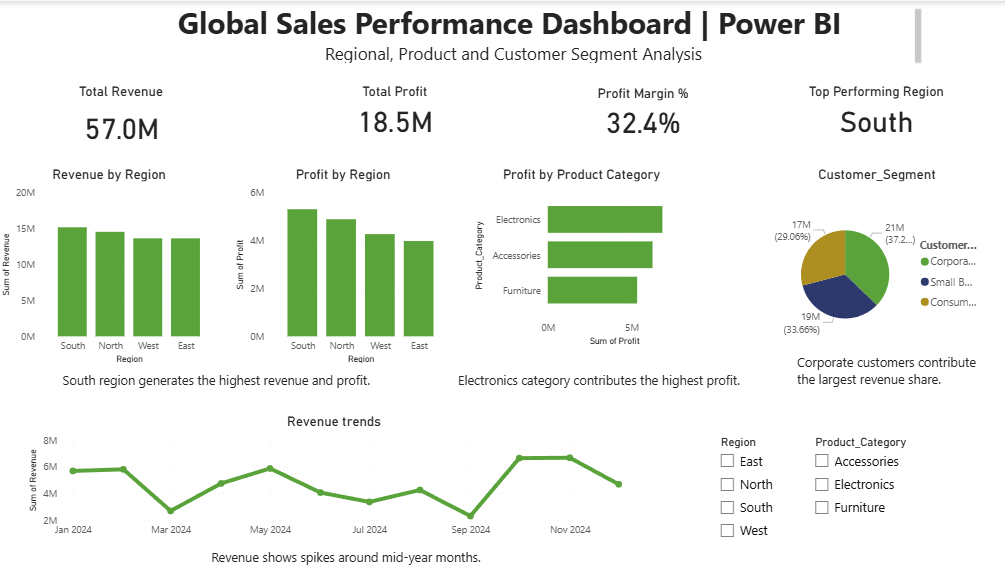

The page's visual inventory and layout, read from the dashboard file:
{"tool":"powerbi","page":{"name":"Page 1","canvas":[1280,720],"ordinal":0},"visuals":[{"type":"card","title":"Total Revenue","fields":{"Values":["Sum(Sheet1.Revenue)"]},"box":[15.1,103.9,279.7,86.9],"z":0},{"type":"clusteredColumnChart","title":"Profit by Region","fields":{"Y":["Sum(Sheet1.Profit)"],"Category":["Sheet1.Region"]},"box":[294.8,207.9,279.7,253.2],"z":1000},{"type":"clusteredColumnChart","title":"Revenue by Region","fields":{"Y":["Sum(Sheet1.Revenue)"],"Category":["Sheet1.Region"]},"box":[0,207.9,279.7,253.2],"z":2000},{"type":"clusteredBarChart","title":" Profit by Product Category","fields":{"Category":["Sheet1.Product_Category"],"Y":["Sum(Sheet1.Profit)"]},"box":[595.3,207.9,279.7,230.6],"z":3000},{"type":"pieChart","title":" Customer_Segment","fields":{"Category":["Sheet1.Customer_Segment"],"Y":["Sum(Sheet1.Revenue)"]},"box":[967.6,207.9,279.7,253.2],"z":4000},{"type":"lineChart","title":" Revenue trends","fields":{"Y":["Sum(Sheet1.Revenue)"],"Category":["Sheet1.Date.Variation.Date Hierarchy.Year","Sheet1.Date.Variation.Date Hierarchy.Month"]},"box":[34,519.7,778.6,164.4],"z":5000},{"type":"card","title":"Total Profit","fields":{"Values":["Sum(Sheet1.Profit)"]},"box":[359.1,103.9,281.6,69.9],"z":6000},{"type":"textbox","box":[139.8,0,1028,83.2],"z":7000},{"type":"slicer","fields":{"Values":["Sheet1.Region"]},"box":[897.6,542.4,103.9,177.6],"z":8000},{"type":"slicer","fields":{"Values":["Sheet1.Product_Category"]},"box":[1016.7,542.4,179.5,177.6],"z":9000},{"type":"card","title":"Profit Margin %","fields":{"Values":["Sheet1.Profit Margin %"]},"box":[703,105.8,219.2,69.9],"z":10000},{"type":"textbox","box":[0,461.1,549.9,45.4],"z":11000},{"type":"textbox","box":[574.5,461.1,376.1,45.4],"z":12000},{"type":"textbox","box":[1001.6,438.4,245.7,68],"z":13000},{"type":"textbox","box":[64.3,684.1,748.4,35.9],"z":14000},{"type":"card","title":"Top Performing Region","fields":{"Values":["Sheet1.Top Region"]},"box":[982.7,103.9,247.6,69.9],"z":15000}]}

Visuals, with their boxes in screenshot pixels (x1, y1, x2, y2), scaled from the page's 1280x720 canvas onto the 1005x566 screenshot:
"Total Revenue" card: box(12, 82, 231, 150)
"Profit by Region" clusteredColumnChart: box(231, 163, 451, 362)
"Revenue by Region" clusteredColumnChart: box(0, 163, 220, 362)
" Profit by Product Category" clusteredBarChart: box(467, 163, 687, 345)
" Customer_Segment" pieChart: box(760, 163, 979, 362)
" Revenue trends" lineChart: box(27, 409, 638, 538)
"Total Profit" card: box(282, 82, 503, 137)
textbox: box(110, 0, 917, 65)
slicer - Sheet1.Region: box(705, 426, 786, 565)
slicer - Sheet1.Product_Category: box(798, 426, 939, 565)
"Profit Margin %" card: box(552, 83, 724, 138)
textbox: box(0, 362, 432, 398)
textbox: box(451, 362, 746, 398)
textbox: box(786, 345, 979, 398)
textbox: box(50, 538, 638, 565)
"Top Performing Region" card: box(772, 82, 966, 137)
